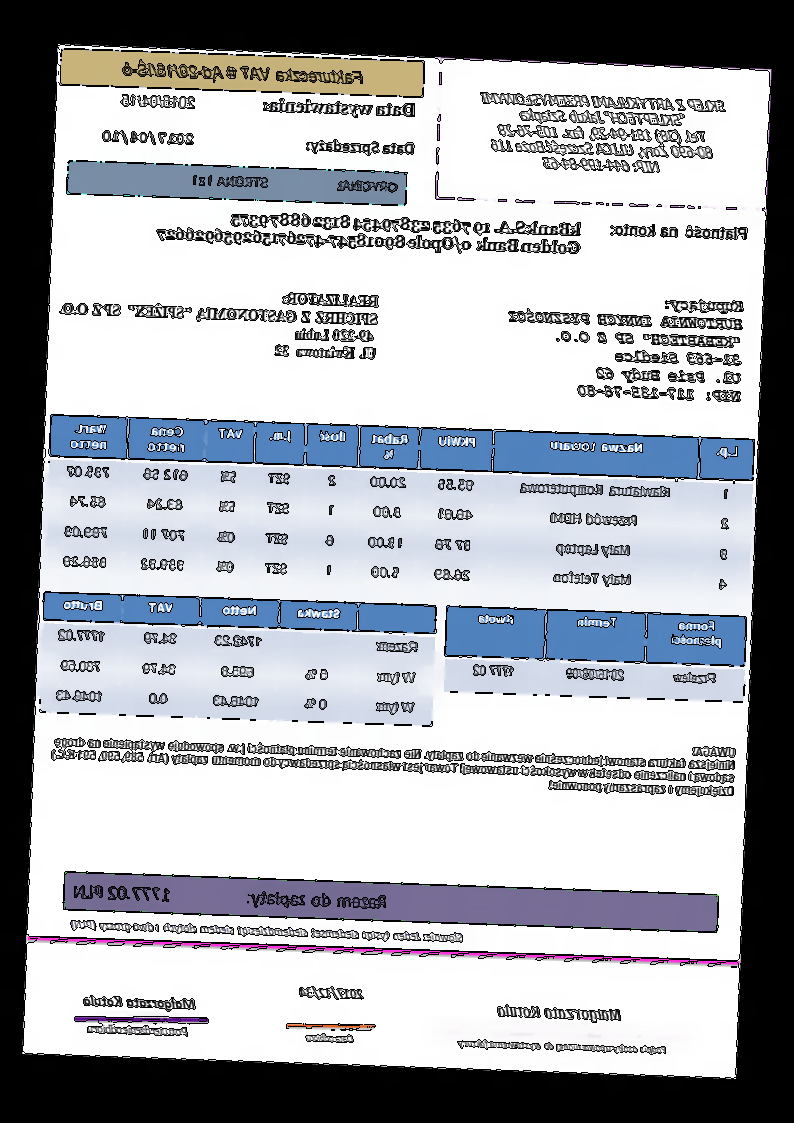Table: (43, 411, 757, 606), (39, 589, 441, 729), (442, 604, 748, 703)
TextBox: (47, 718, 739, 801), (503, 288, 749, 405), (54, 280, 383, 363), (475, 83, 730, 182), (153, 203, 585, 259), (64, 915, 467, 946), (72, 877, 392, 913), (117, 56, 368, 87), (189, 169, 401, 198), (454, 1035, 673, 1058), (259, 92, 419, 121), (605, 219, 754, 246), (494, 997, 625, 1026), (299, 134, 420, 160), (78, 989, 202, 1013), (98, 124, 198, 150), (119, 87, 201, 115), (83, 1021, 194, 1040), (297, 983, 367, 1003), (303, 1030, 358, 1049)
